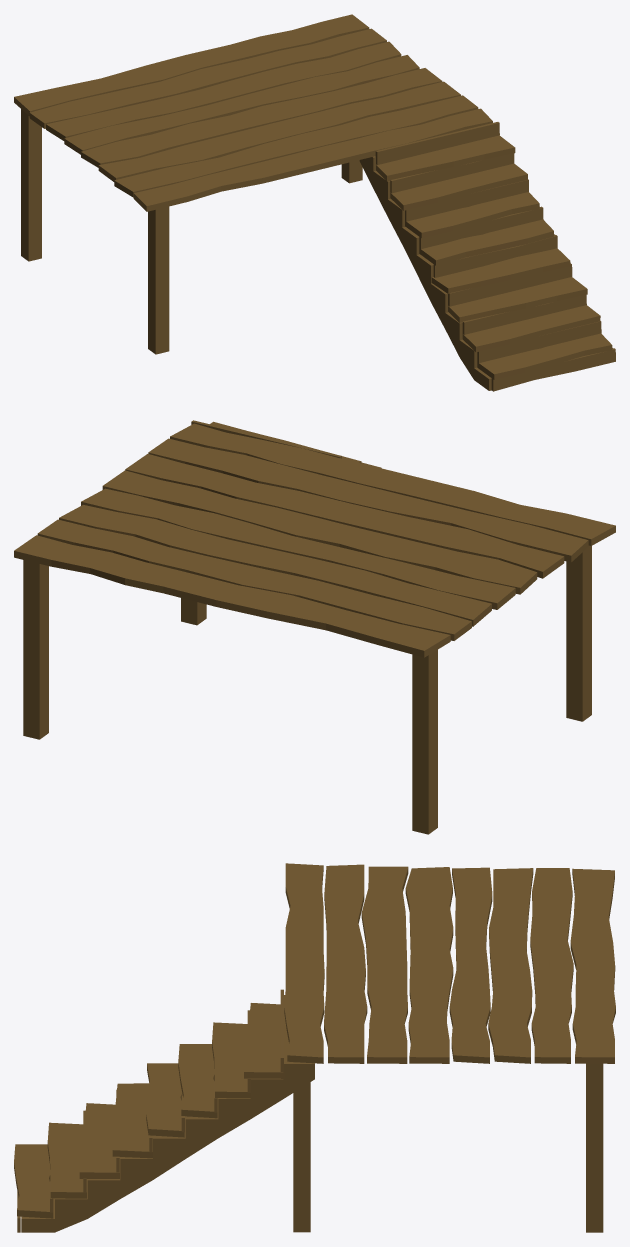
Rendered from kat.fbx.
The picture shows the model from 3 angles, top to bottom: view 1: azimuth 30°, elevation 25°; view 2: azimuth 150°, elevation 25°; view 3: azimuth 270°, elevation 25°; orthographic projection. The views are drawn at different scales.
Visible parts, largest first — view 1: Cube.001; view 2: Cube.001; view 3: Cube.001.
Boxes of the visible parts, bbox=[...] form: Cube.001: bbox=[14, 14, 615, 391]; Cube.001: bbox=[14, 420, 615, 834]; Cube.001: bbox=[14, 863, 615, 1232].
Size of the model in its own units: 263 by 111 by 344.
